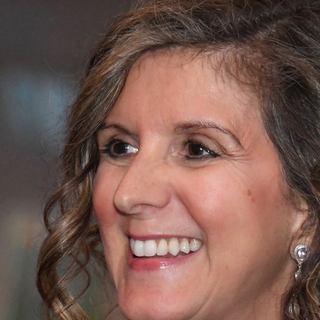eye: (178, 138, 227, 165), (99, 136, 141, 163)
